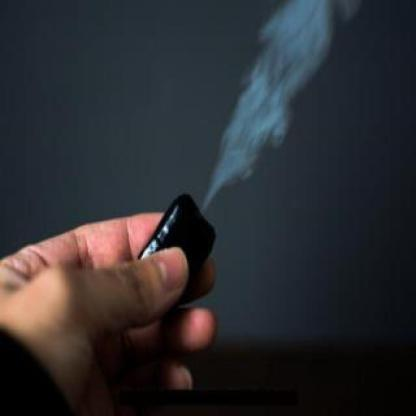Smoke: (192, 0, 333, 212)
